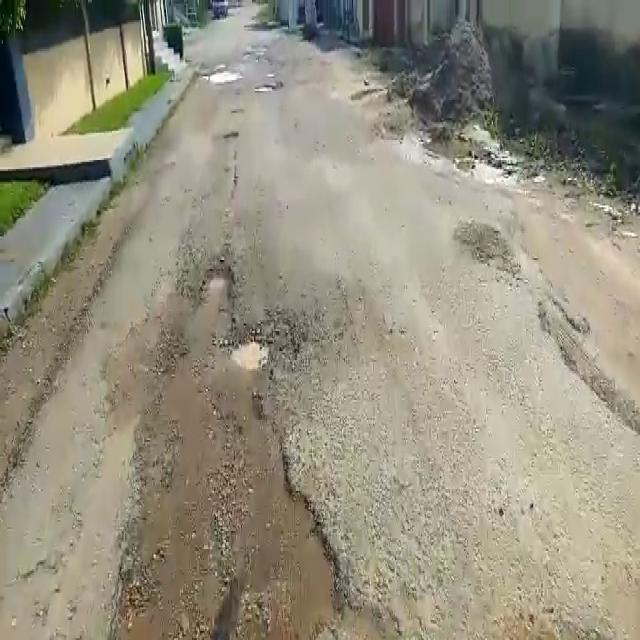Pothole: (229, 316, 297, 378), (200, 263, 237, 301)
